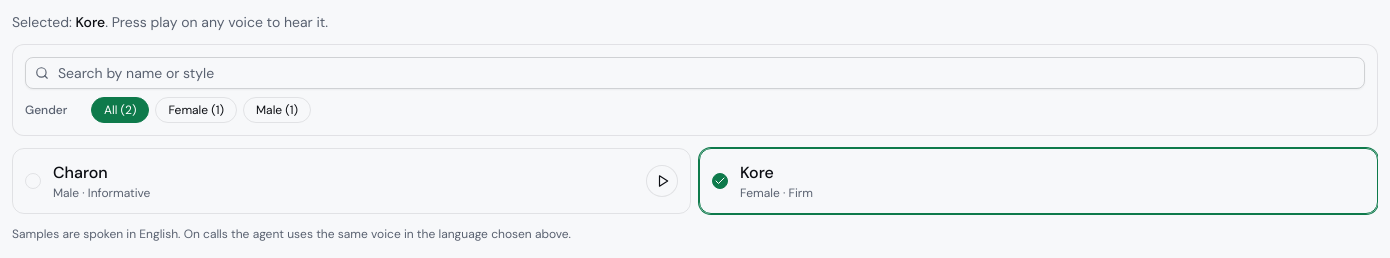
Test: GeminiLiveVoicePicker › plays a sample without selecting the voice, and stops it again
Click the button named "Play Charon sample".
click(662, 181)  # box [646,165,678,197]
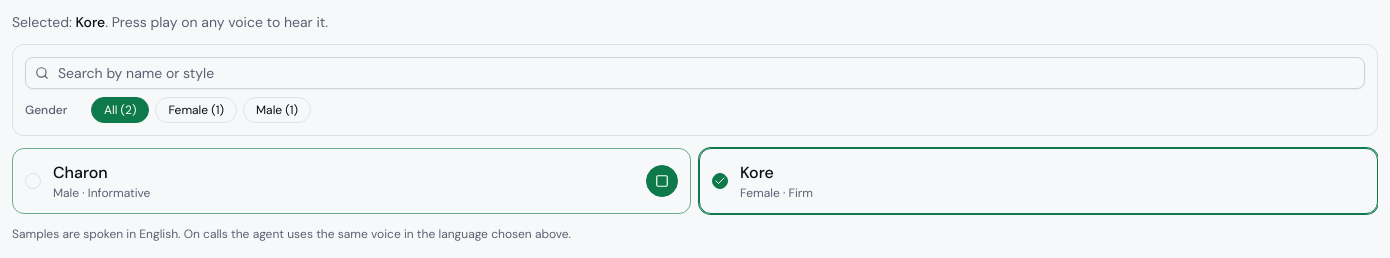
Result: the button named "Stop Charon sample" is shown
Click the button named "Stop Charon sample".
click(662, 181)  # box [646,165,678,197]
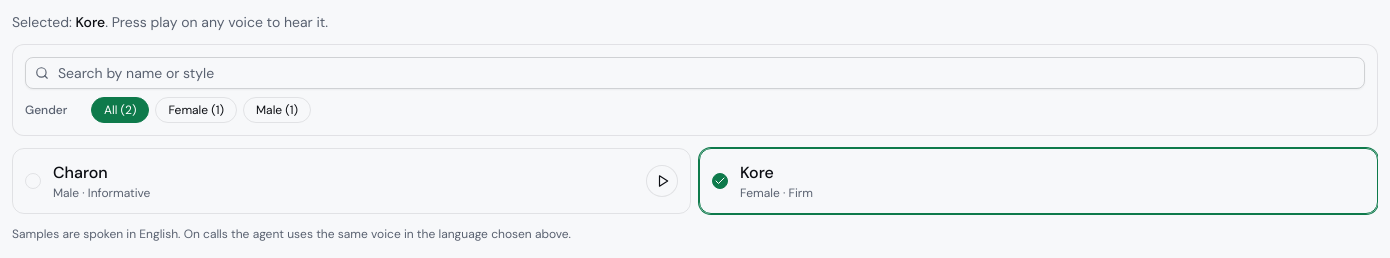
Result: the button named "Play Charon sample" is shown at [646,165,678,197]
